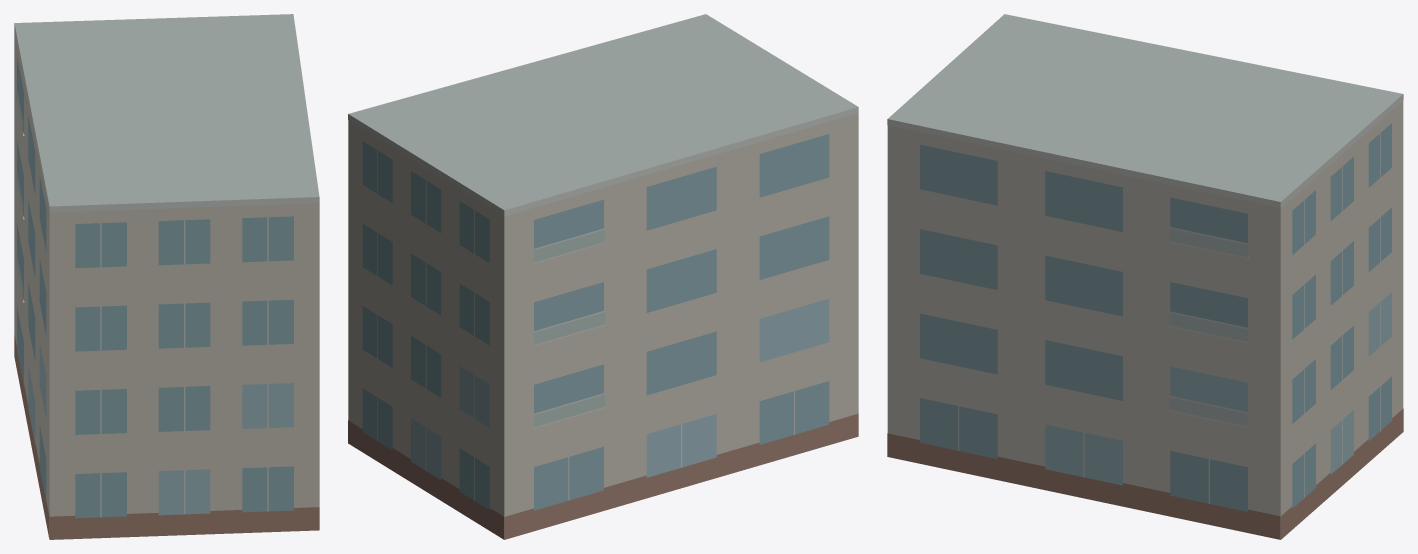
File: survey-upis-32890206.glb
3 renders of one model, left to right at view 1: azimuth 30°, elevation 25°; view 2: azimuth 150°, elevation 25°; view 3: azimuth 270°, elevation 25°, orthographic. The views are drawn at different scales.
Visible parts, largest first — view 1: survey-upis-32890206.tmp; view 2: survey-upis-32890206.tmp; view 3: survey-upis-32890206.tmp.
Boxes of the visible parts, left/top/right/bottom form: survey-upis-32890206.tmp: left=14, top=14, right=319, bottom=539; survey-upis-32890206.tmp: left=348, top=14, right=858, bottom=539; survey-upis-32890206.tmp: left=887, top=14, right=1403, bottom=539.
Size of the model in its own units: 15.76 by 13.2 by 18.28.
